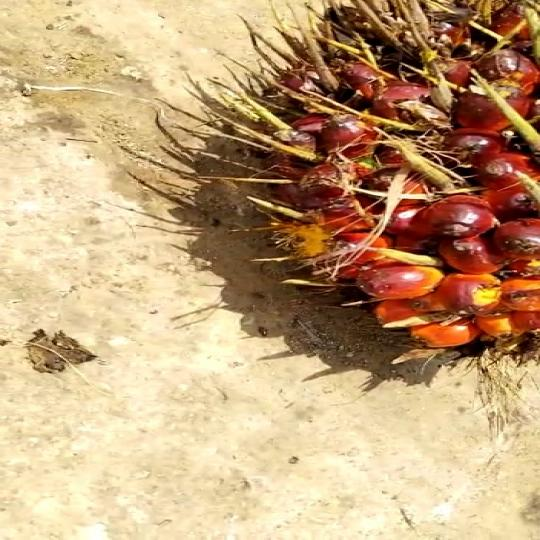masak: (148, 19, 540, 367)
